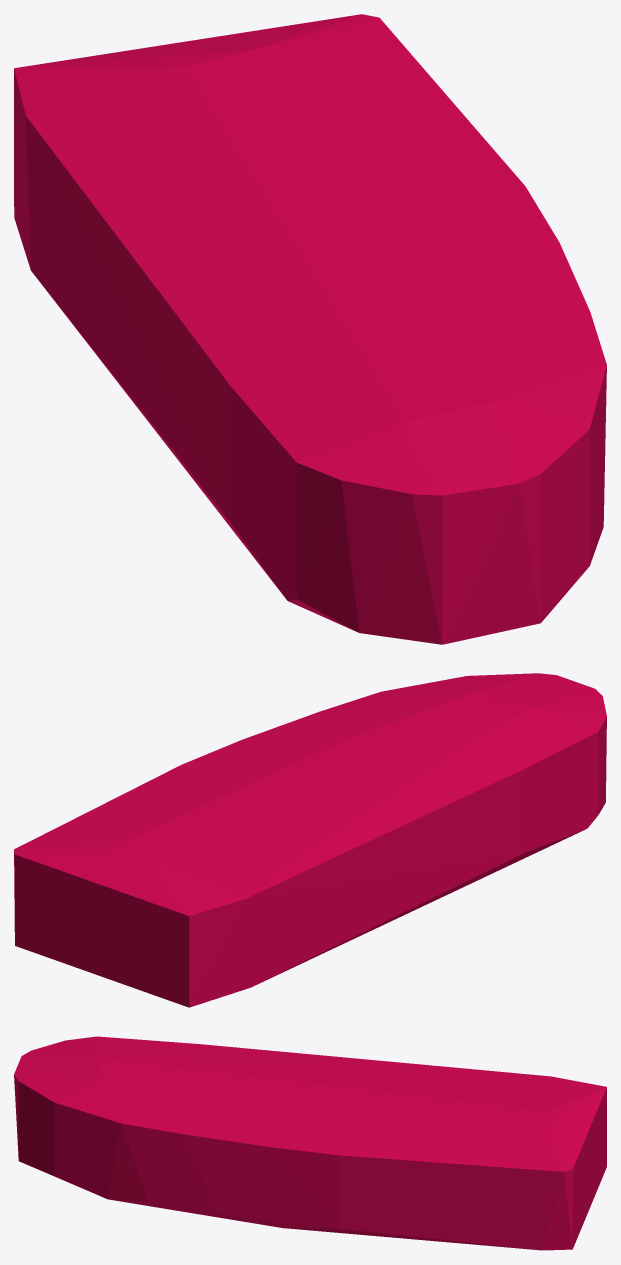
File: model5_convex_piece_006.obj
3 views of the same model, one above another, from view 1: azimuth 30°, elevation 25°; view 2: azimuth 150°, elevation 25°; view 3: azimuth 270°, elevation 25° (orthographic). The views are drawn at different scales.
Size of the model in its own units: 0.0252 by 0.00753 by 0.0465.
